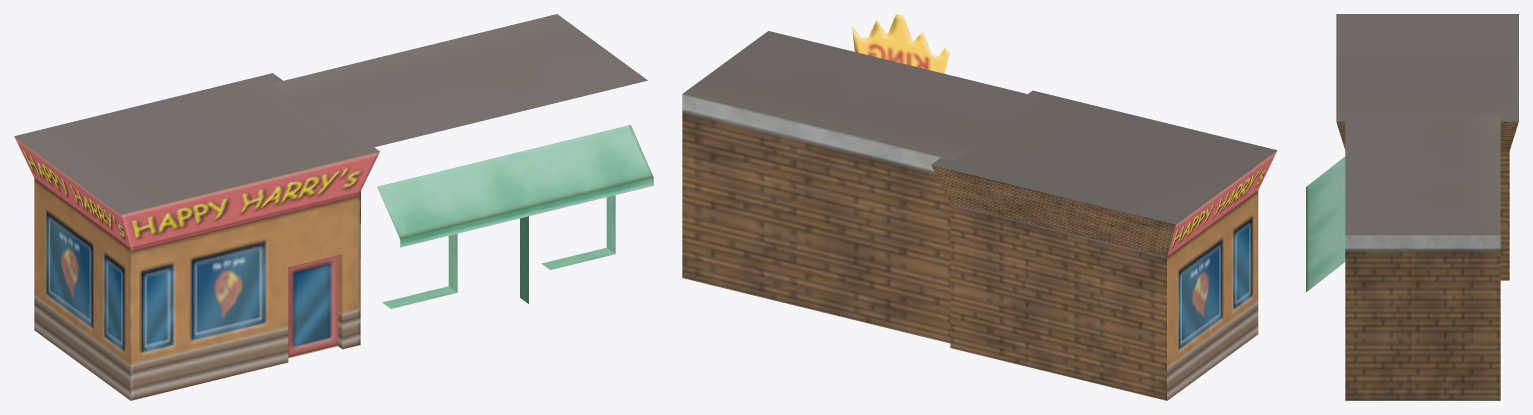
The model's file is build_4.glb.
3 renders of one model, left to right at view 1: azimuth 30°, elevation 25°; view 2: azimuth 150°, elevation 25°; view 3: azimuth 270°, elevation 25°, orthographic. The views are drawn at different scales.
Visible parts, largest first — view 1: build_4; view 2: build_4; view 3: build_4.
Part boxes in pixels (left/top/right/bottom): build_4: left=14, top=14, right=653, bottom=400; build_4: left=682, top=14, right=1277, bottom=400; build_4: left=1306, top=14, right=1518, bottom=400.
Bounding box in the file's own units: 2063 × 909 × 839.
7 materials, 7 textured.
